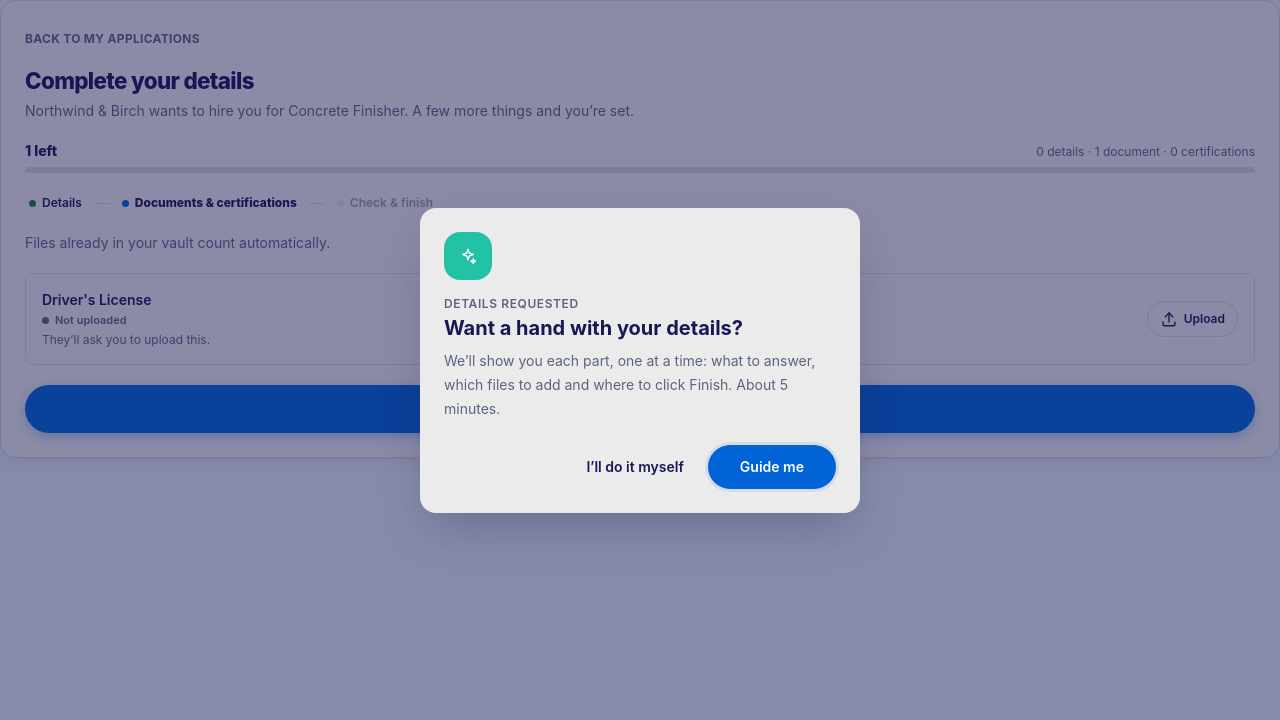
worker_details guide — Documents & certifications › moves on by itself once a missing document is uploaded
Step 1. Click the button "Guide me" → (772, 466), box left=708, top=444, right=836, bottom=488
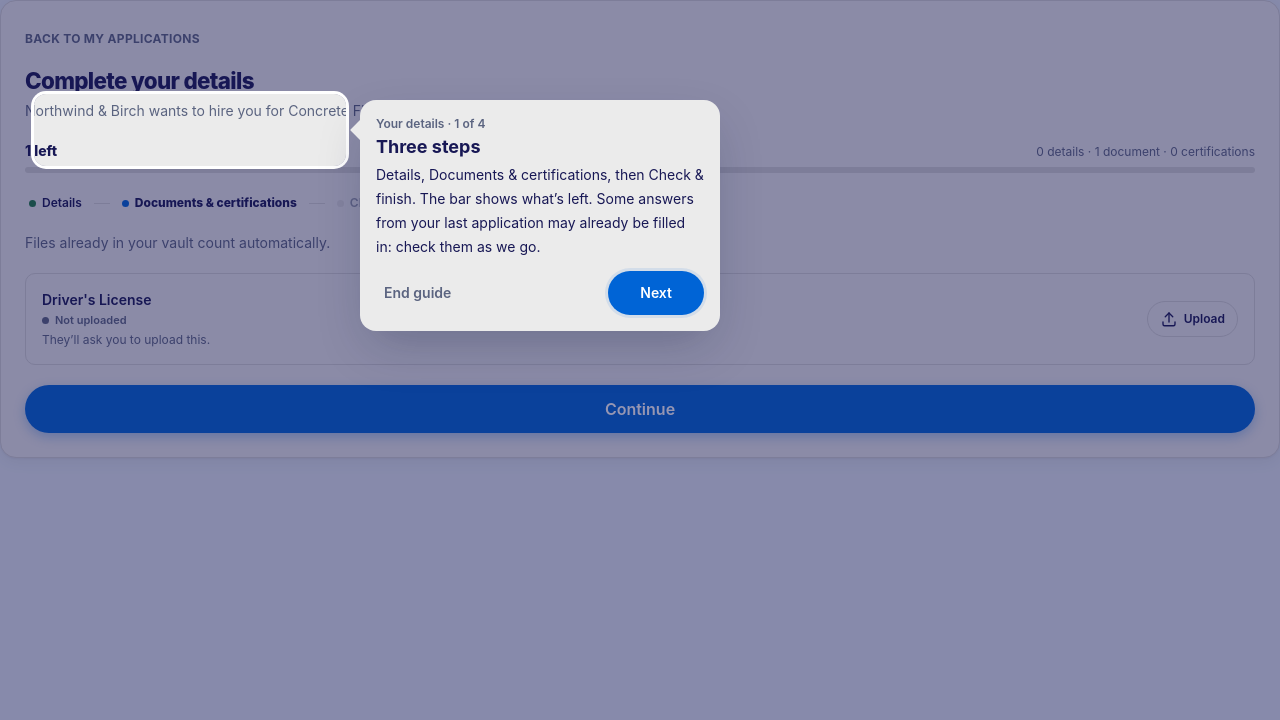
Step 2. Click the button "Next" → (656, 292), box left=608, top=270, right=704, bottom=314
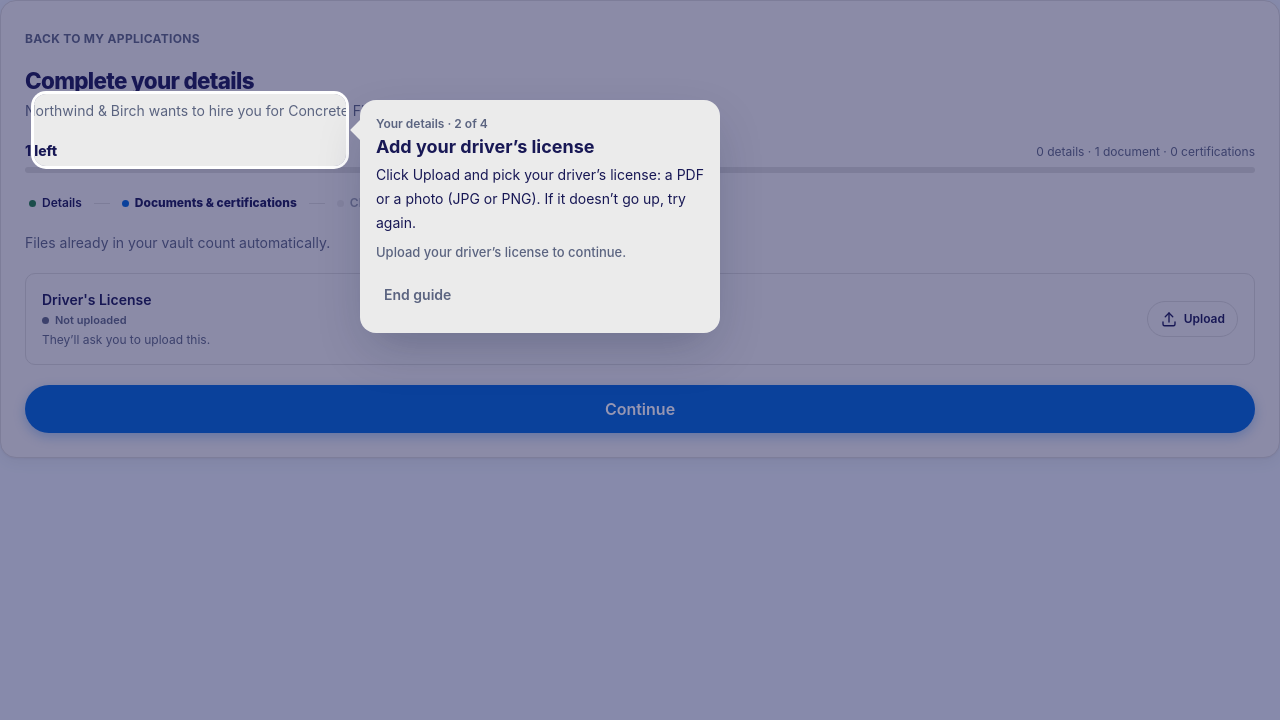
Expected: the button "Next" is gone
Expected: the dialog shows "Upload your driver’s license to continue.", left=376, top=244, right=626, bottom=260
